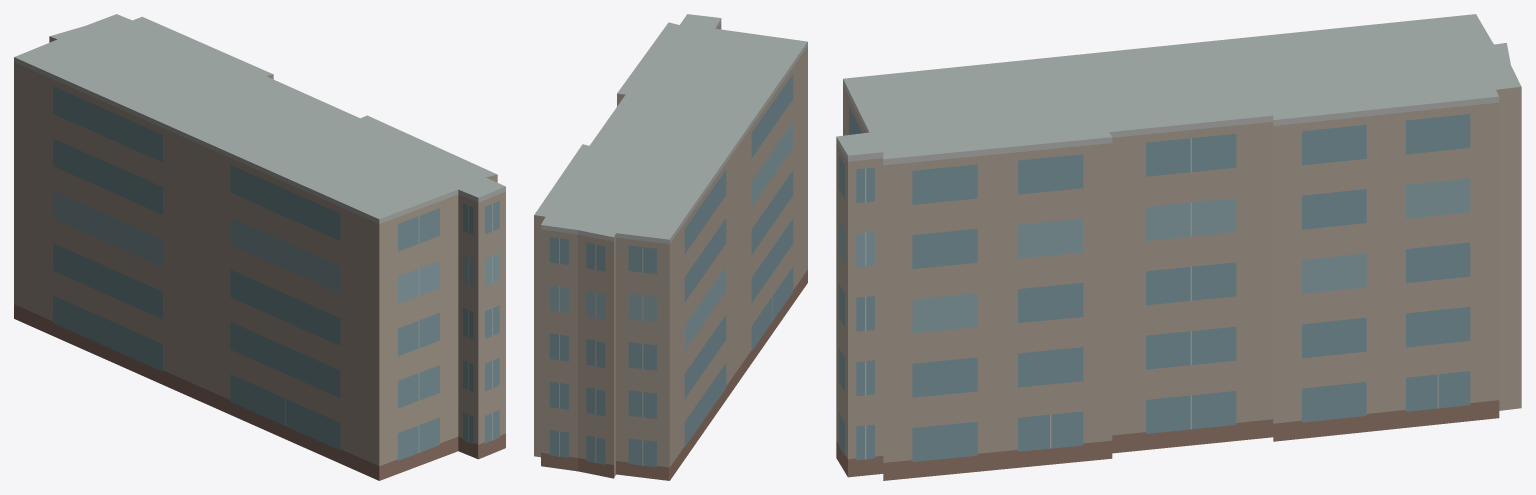
Rendered from survey-upis-32873372.glb.
The picture shows the model from 3 angles, left to right: view 1: azimuth 30°, elevation 25°; view 2: azimuth 150°, elevation 25°; view 3: azimuth 270°, elevation 25°; orthographic projection. The views are drawn at different scales.
Parts seen in each view (by area): view 1: survey-upis-32873372.tmp; view 2: survey-upis-32873372.tmp; view 3: survey-upis-32873372.tmp.
Boxes of the visible parts, x1,y1,x2,y2 form: survey-upis-32873372.tmp: (14, 14, 505, 480); survey-upis-32873372.tmp: (534, 14, 807, 480); survey-upis-32873372.tmp: (836, 14, 1521, 480).
Bounding box in the file's own units: 12.81 × 13.2 × 25.5.
